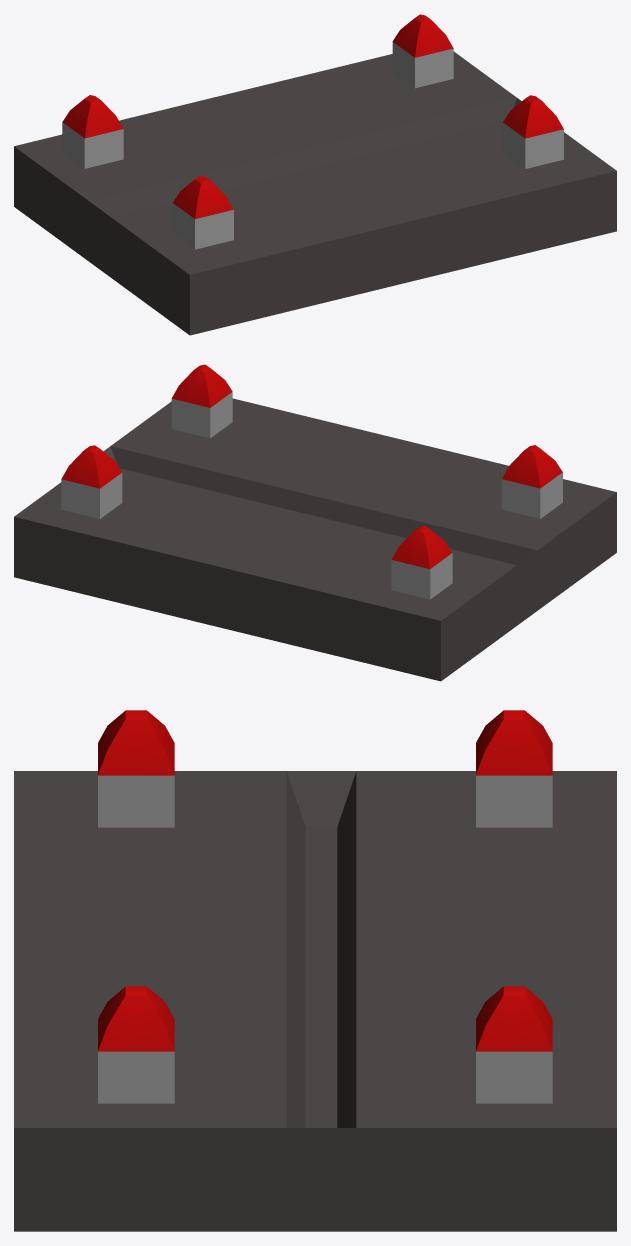
The model's file is Lever_Body.fbx.
3 views of the same model, one above another, from view 1: azimuth 30°, elevation 25°; view 2: azimuth 150°, elevation 25°; view 3: azimuth 270°, elevation 25° (orthographic). The views are drawn at different scales.
Visible parts, largest first — view 1: Lever_Body; view 2: Lever_Body; view 3: Lever_Body.
Part boxes in pixels (x1=…): Lever_Body: x1=14, y1=14, x2=616, y2=335; Lever_Body: x1=14, y1=364, x2=616, y2=681; Lever_Body: x1=14, y1=710, x2=616, y2=1231.
Size of the model in its own units: 3.63 by 0.9705 by 2.59.
